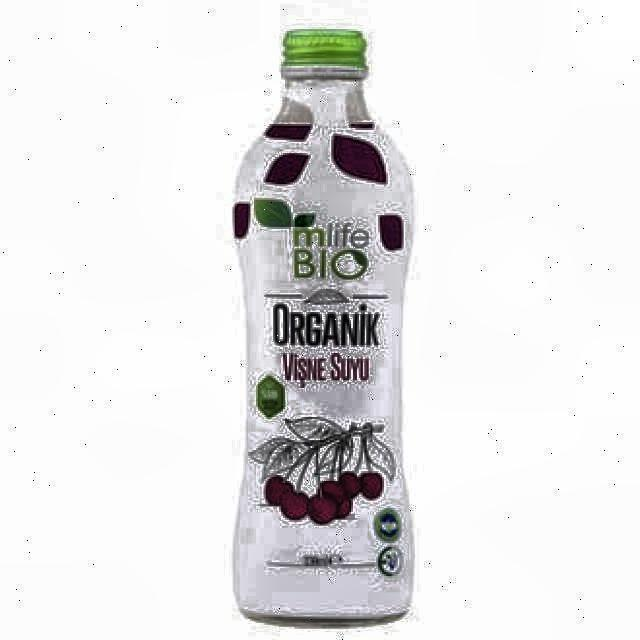glass: (232, 28, 414, 624)
